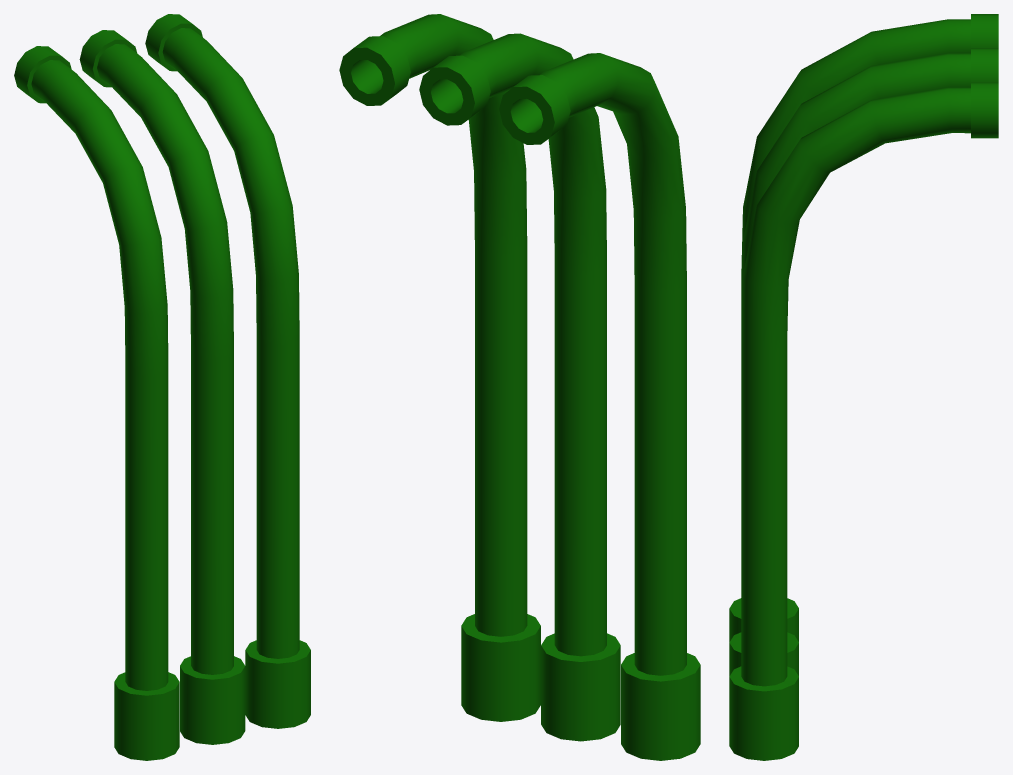
Rendered from pipe2.fbx.
3 views of the same model, side by side, from view 1: azimuth 30°, elevation 25°; view 2: azimuth 150°, elevation 25°; view 3: azimuth 270°, elevation 25° (orthographic). The views are drawn at different scales.
Visible parts, largest first — view 1: pipe2; view 2: pipe2; view 3: pipe2.
Part boxes in pixels (x1=…): pipe2: x1=14, y1=14, x2=310, y2=760; pipe2: x1=339, y1=14, x2=700, y2=760; pipe2: x1=729, y1=14, x2=998, y2=760.
Size of the model in its own units: 83.35 by 71.6 by 226.
